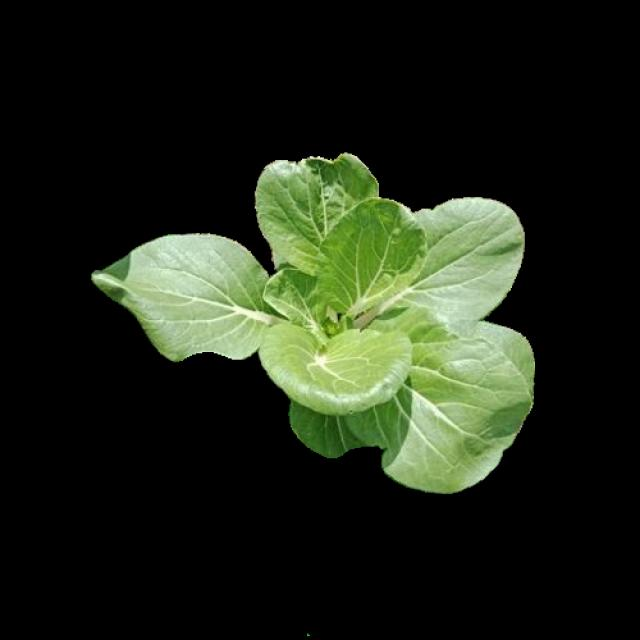healthy: (99, 168, 536, 494)
mature: (95, 155, 539, 497)
